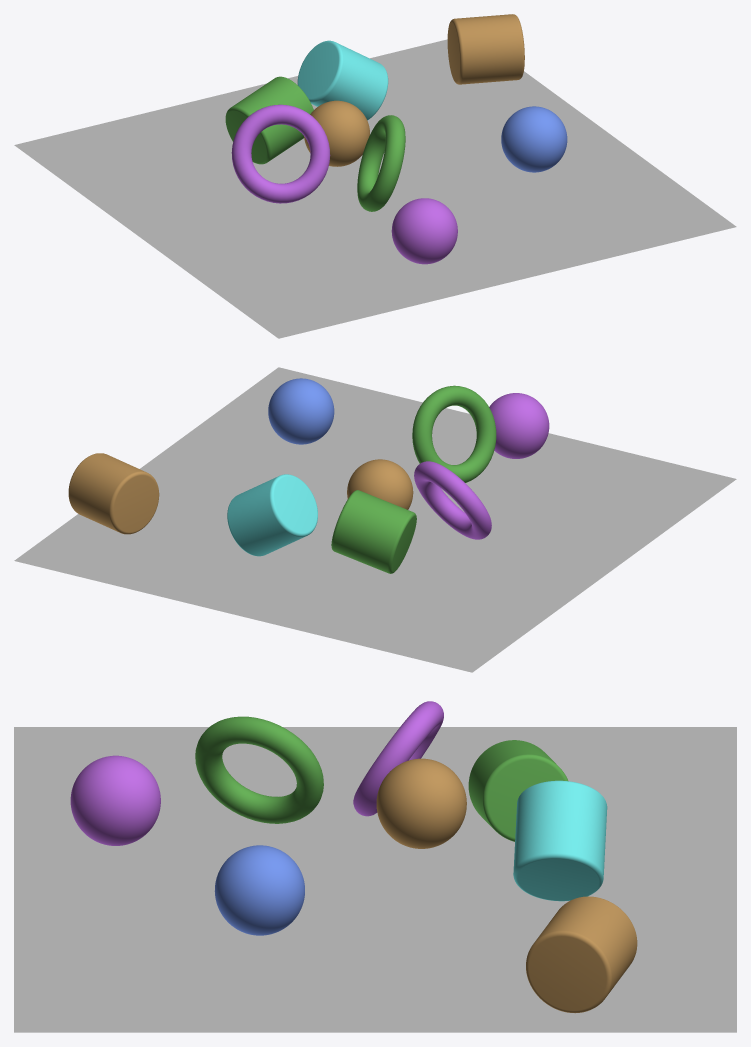
The picture shows the model from 3 angles, top to bottom: view 1: azimuth 30°, elevation 25°; view 2: azimuth 150°, elevation 25°; view 3: azimuth 270°, elevation 25°; orthographic projection. The views are drawn at different scales.
Visible parts, largest first — view 1: Cube, FileBasedObject.005, FileBasedObject.004, FileBasedObject.006, FileBasedObject.003, FileBasedObject.002, FileBasedObject.007, FileBasedObject.001, FileBasedObject; view 2: Cube, FileBasedObject.006, FileBasedObject.004, FileBasedObject.007, FileBasedObject.001, FileBasedObject.003, FileBasedObject.005, FileBasedObject.002, FileBasedObject; view 3: Cube, FileBasedObject.006, FileBasedObject.004, FileBasedObject.001, FileBasedObject, FileBasedObject.003, FileBasedObject.002, FileBasedObject.007, FileBasedObject.005.
Boxes of the visible parts, x1,y1,x2,y2 form: Cube: [14, 39, 736, 338]; FileBasedObject.005: [231, 104, 330, 203]; FileBasedObject.004: [447, 14, 524, 84]; FileBasedObject.006: [297, 40, 388, 120]; FileBasedObject.003: [501, 106, 567, 172]; FileBasedObject.002: [391, 198, 457, 264]; FileBasedObject.007: [225, 76, 313, 164]; FileBasedObject.001: [357, 115, 405, 211]; FileBasedObject: [304, 100, 369, 166]; Cube: [14, 367, 736, 672]; FileBasedObject.006: [227, 474, 317, 556]; FileBasedObject.004: [68, 453, 159, 534]; FileBasedObject.007: [331, 490, 416, 573]; FileBasedObject.001: [412, 385, 496, 482]; FileBasedObject.003: [268, 378, 334, 444]; FileBasedObject.005: [414, 461, 491, 539]; FileBasedObject.002: [489, 393, 549, 458]; FileBasedObject: [347, 459, 413, 509]; Cube: [14, 727, 736, 1032]; FileBasedObject.006: [513, 780, 607, 901]; FileBasedObject.004: [526, 896, 637, 1013]; FileBasedObject.001: [195, 716, 323, 823]; FileBasedObject: [376, 758, 466, 848]; FileBasedObject.003: [214, 845, 304, 935]; FileBasedObject.002: [70, 755, 160, 845]; FileBasedObject.007: [468, 740, 568, 841]; FileBasedObject.005: [353, 701, 443, 816].
Size of the model in its own units: 8 by 1.76 by 8.
